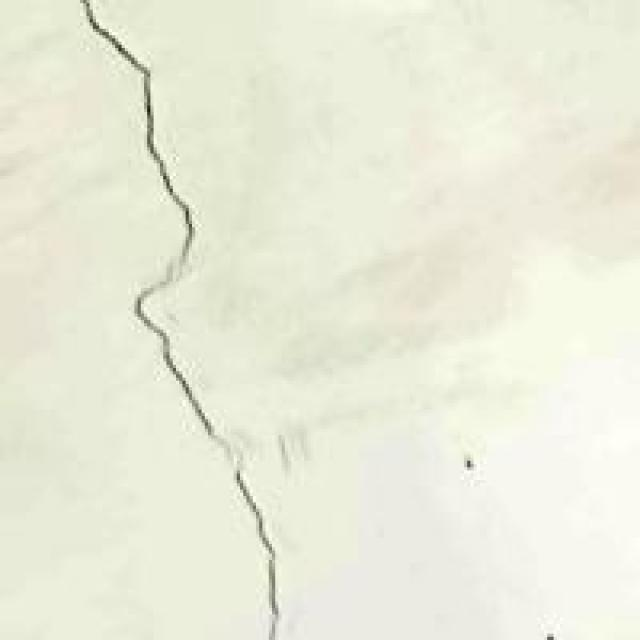crack: (32, 0, 336, 634)
